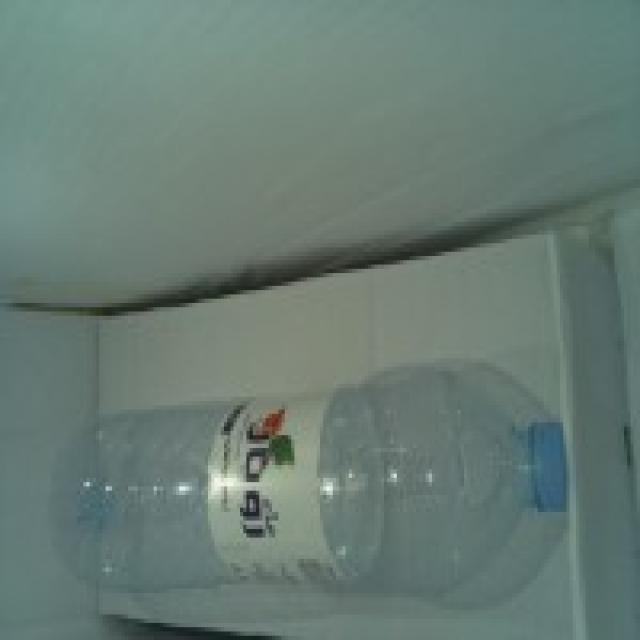blue: (43, 365, 530, 595)
